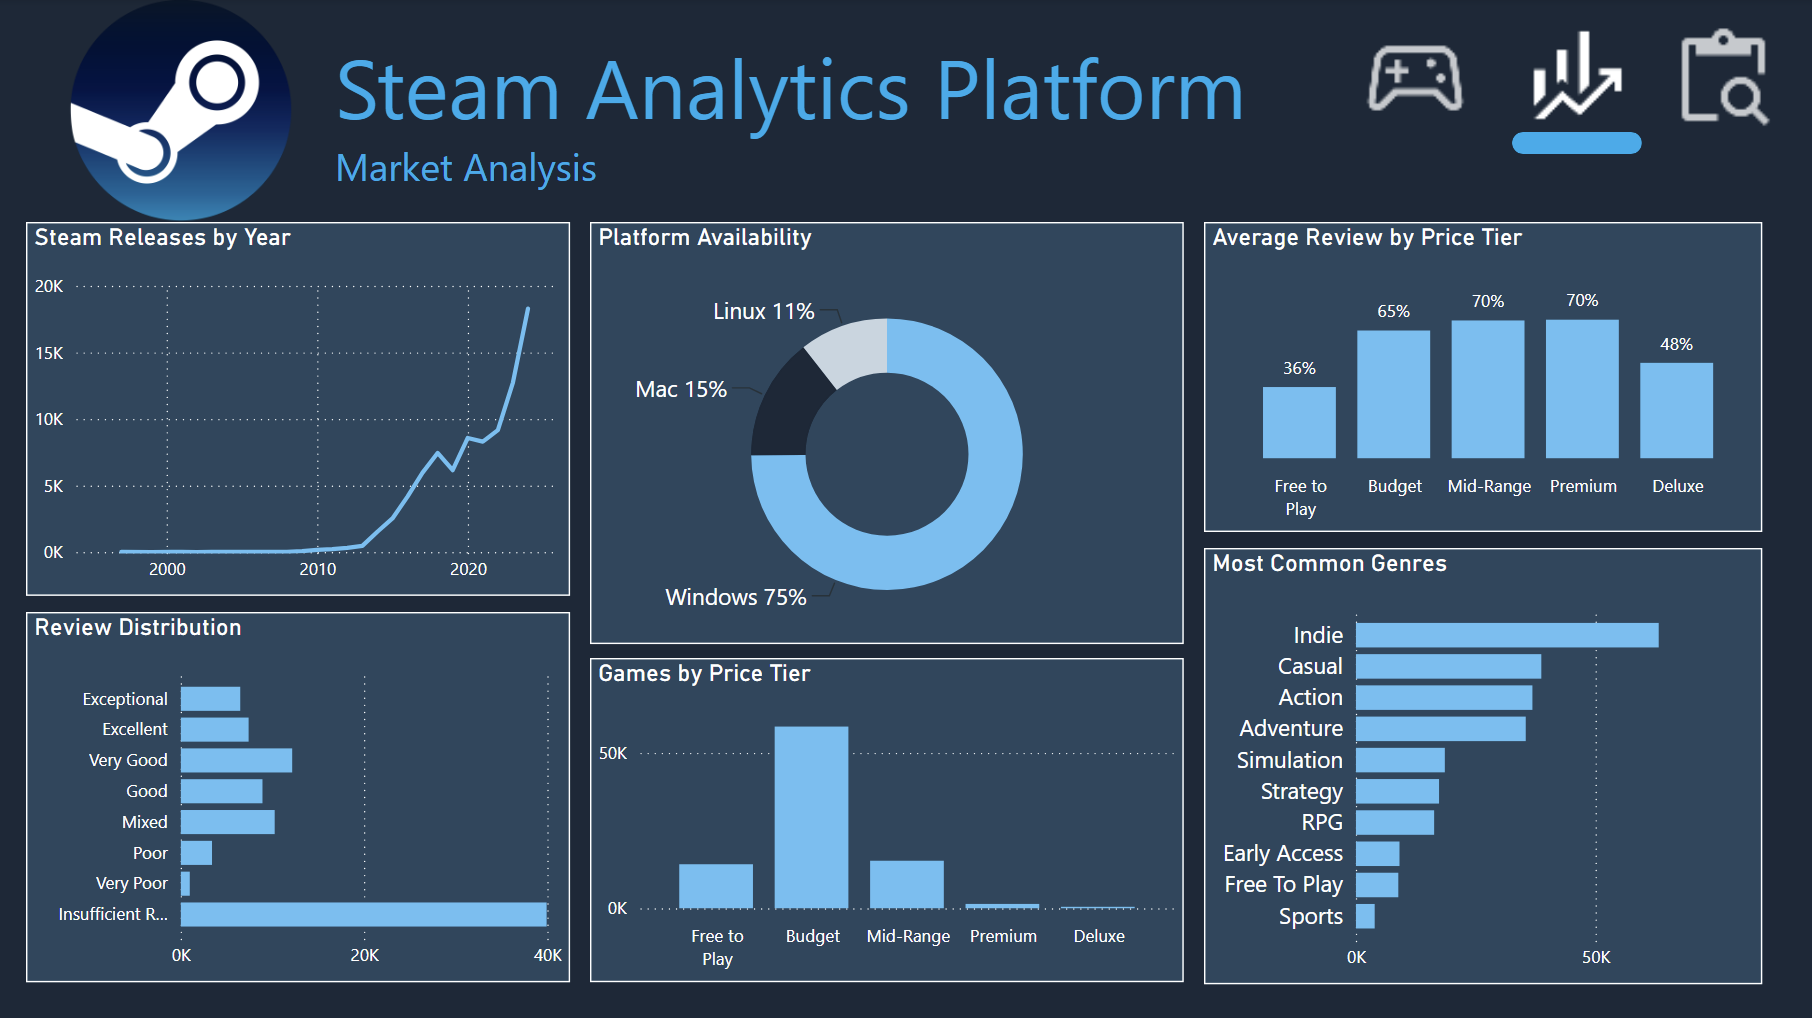

The dashboard page shown, as its layout file describes it:
{"tool":"powerbi","page":{"name":"Market Analysis","canvas":[1280,720],"ordinal":1},"visuals":[{"type":"textbox","box":[232.6,16.9,1022,141],"z":0},{"type":"slicer","fields":{"Values":["games_gold.price_bucket"]},"box":[11.3,170.6,186.1,74.7],"z":1000},{"type":"slicer","fields":{"Values":["games_gold.release_decade"]},"box":[11.3,506.1,186.1,74.7],"z":2000},{"type":"slicer","fields":{"Values":["games_gold.playtime_bucket"]},"box":[11.3,617.4,186.1,74.7],"z":3000},{"type":"slicer","fields":{"Values":["games_gold.review_category"]},"box":[11.3,397.5,186.1,74.7],"z":4000},{"type":"slicer","fields":{"Values":["platforms.Platform"]},"box":[11.3,284.8,186.1,74.7],"z":5000},{"type":"cardVisual","fields":{"Data":["games_gold.Games Found"]},"box":[232.6,170.6,186.1,86],"z":6000},{"type":"cardVisual","fields":{"Data":["games_gold.Average Review %"]},"box":[435.6,170.6,186.1,86],"z":7000},{"type":"cardVisual","fields":{"Data":["games_gold.Average Price"]},"box":[640,170.6,186.1,86],"z":8000},{"type":"cardVisual","fields":{"Data":["games_gold.Average Playtime (hrs)"]},"box":[841.6,170.6,212.9,86],"z":9000},{"type":"cardVisual","fields":{"Data":["games_gold.Average Metacritic"]},"box":[1072.8,170.6,188.9,86],"z":10000},{"type":"image","box":[0,0,258,157.9],"z":11000},{"type":"tableEx","fields":{"Values":["games_gold.game_name","games_gold.price","games_gold.Average Review %","games_gold.Average Playtime (hrs)","games_gold.release_year","games_gold.estimated_owner_midpoint"]},"box":[232.6,284.8,1029.1,407.4],"z":12000},{"type":"textSlicer","fields":{"Values":["games_gold.game_name"]},"box":[435.6,118.4,618.9,39.5],"z":13000},{"type":"image","box":[960,16.9,78,78.9],"z":14000},{"type":"image","box":[1072.8,16.9,78,78],"z":15000},{"type":"shape","box":[1067.1,94,91.6,15.5],"z":17000},{"type":"image","box":[1177.1,18.3,78,78],"z":17001}]}

Visuals, with their boxes in screenshot pixels (x1, y1, x2, y2), scaled from the page's 1280x720 canvas onto the 1812x1018 screenshot:
textbox: x1=329, y1=24, x2=1776, y2=223
slicer - games_gold.price_bucket: x1=16, y1=241, x2=279, y2=347
slicer - games_gold.release_decade: x1=16, y1=716, x2=279, y2=821
slicer - games_gold.playtime_bucket: x1=16, y1=873, x2=279, y2=979
slicer - games_gold.review_category: x1=16, y1=562, x2=279, y2=668
slicer - platforms.Platform: x1=16, y1=403, x2=279, y2=508
cardVisual - games_gold.Games Found: x1=329, y1=241, x2=593, y2=363
cardVisual - games_gold.Average Review %: x1=617, y1=241, x2=880, y2=363
cardVisual - games_gold.Average Price: x1=906, y1=241, x2=1169, y2=363
cardVisual - games_gold.Average Playtime (hrs): x1=1191, y1=241, x2=1493, y2=363
cardVisual - games_gold.Average Metacritic: x1=1519, y1=241, x2=1786, y2=363
image: x1=0, y1=0, x2=365, y2=223
tableEx - games_gold.game_name x games_gold.price: x1=329, y1=403, x2=1786, y2=979
textSlicer - games_gold.game_name: x1=617, y1=167, x2=1493, y2=223
image: x1=1359, y1=24, x2=1469, y2=135
image: x1=1519, y1=24, x2=1629, y2=134
shape: x1=1511, y1=133, x2=1640, y2=155
image: x1=1666, y1=26, x2=1777, y2=136
